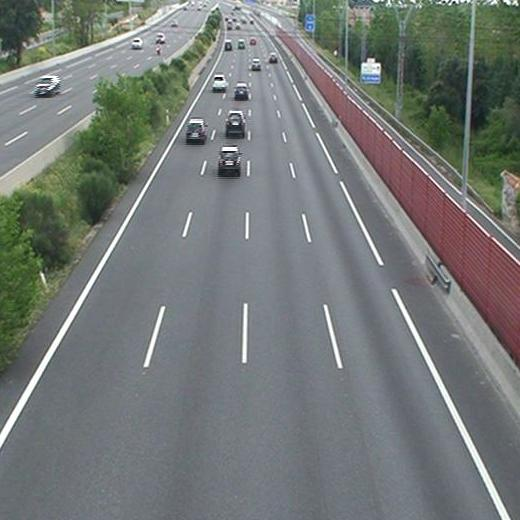car: (219, 148, 240, 171), (226, 111, 246, 132), (186, 120, 206, 140), (212, 74, 227, 89), (234, 83, 248, 97), (251, 58, 260, 69), (223, 40, 232, 49), (237, 40, 245, 48), (249, 37, 256, 46), (269, 54, 277, 61)
